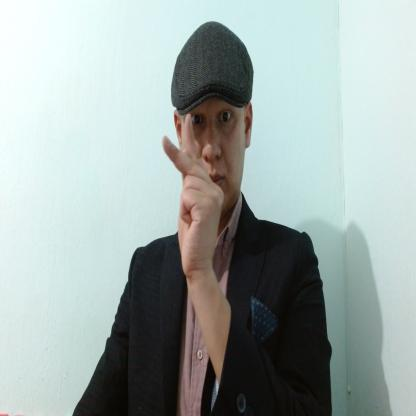P: (160, 111, 225, 279)
